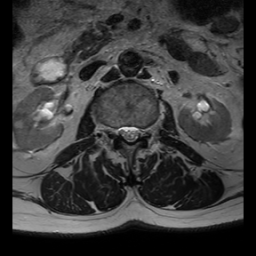CCS_stenosis: (126, 116, 133, 149)
LFS_normal: (140, 119, 148, 143)
LLS_normal: (133, 118, 140, 144)
RFS_normal: (111, 118, 118, 142)
RLS_normal: (118, 118, 126, 143)
